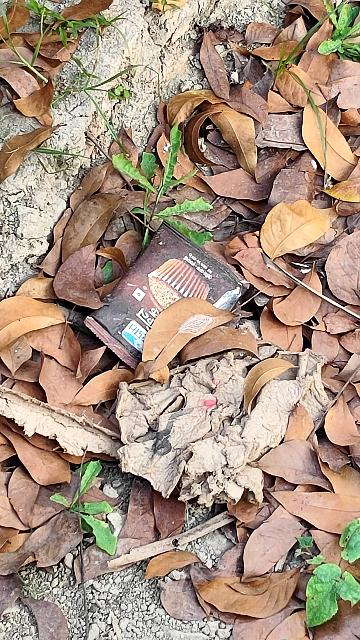packet: (86, 222, 246, 365)
